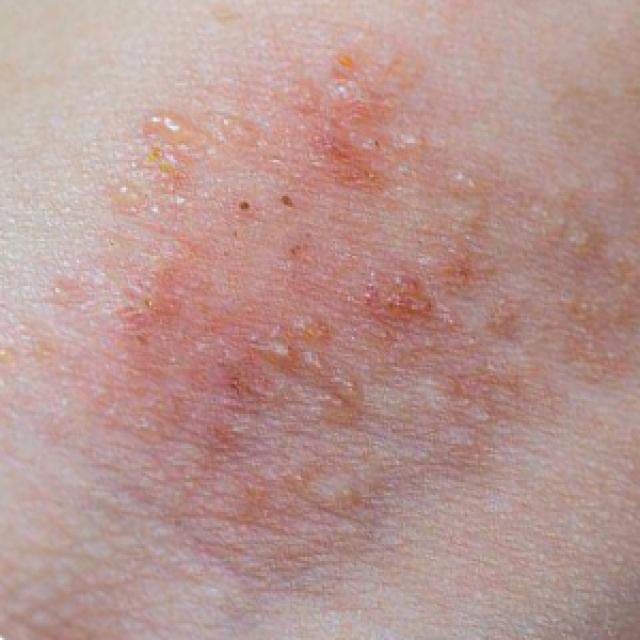AtopicDermatitis: (11, 28, 638, 591)
